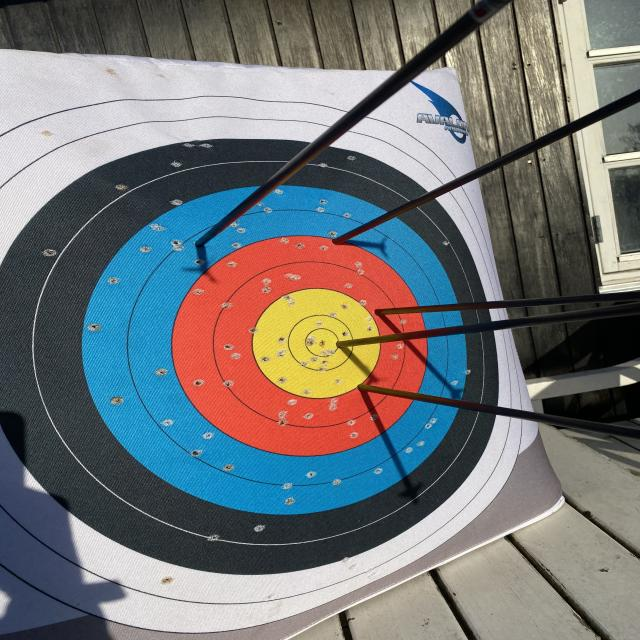Arrow_Blue: (178, 229, 227, 260)
Arrow_Red: (323, 224, 363, 258), (342, 372, 381, 402), (367, 298, 392, 323)
Arrow_Yellow: (322, 331, 374, 360)
